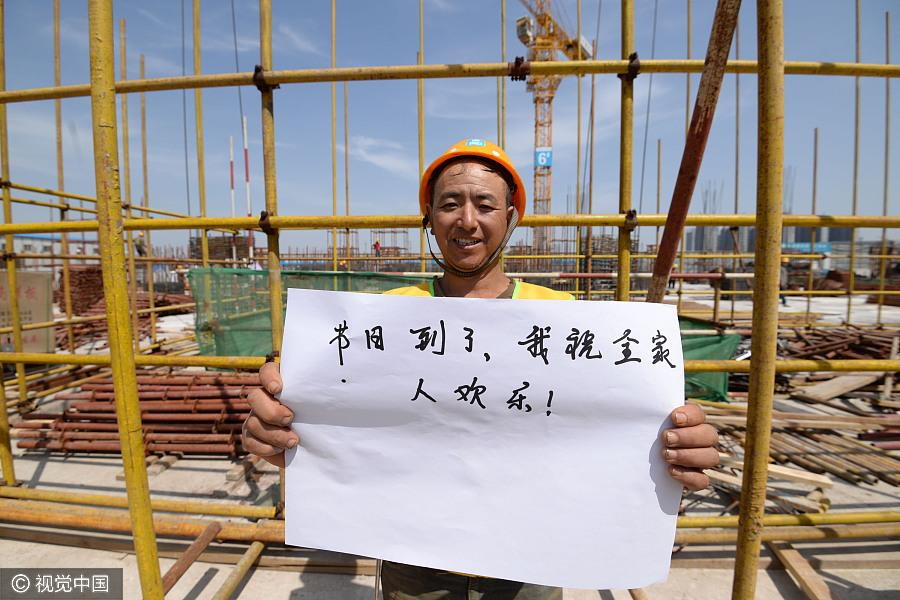helmet: (418, 137, 528, 227)
